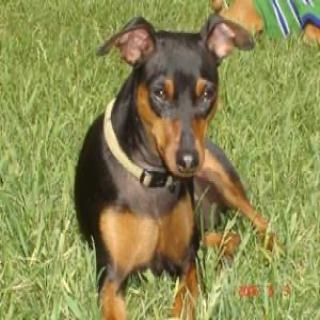dog: (99, 9, 243, 182)
